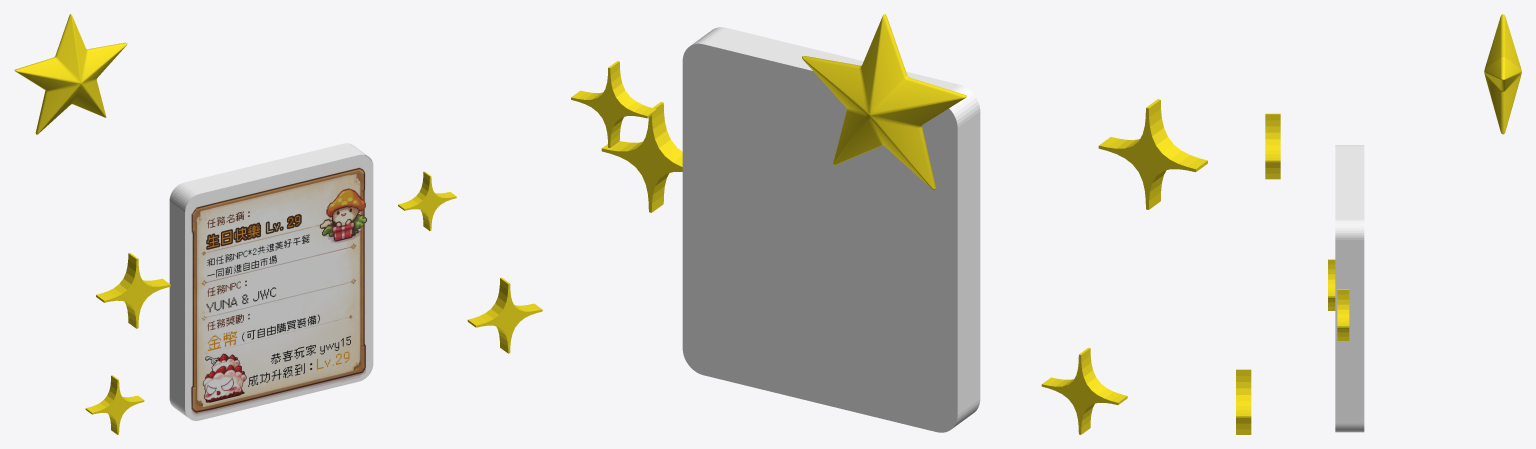
The picture shows the model from 3 angles, left to right: view 1: azimuth 30°, elevation 25°; view 2: azimuth 150°, elevation 25°; view 3: azimuth 270°, elevation 25°; orthographic projection. The views are drawn at different scales.
Visible parts, largest first — view 1: 紅包袋-楓幣-png-02, Gold_star, Cube.002, Cube, Cube.001, Cube.003; view 2: 紅包袋-楓幣-png-02, Gold_star, Cube, Cube.002, Cube.003, Cube.001; view 3: 紅包袋-楓幣-png-02, Gold_star, Cube, Cube.002, Cube.001, Cube.003.
Boxes of the visible parts, bbox=[...] form: 紅包袋-楓幣-png-02: bbox=[169, 143, 373, 420]; Gold_star: bbox=[14, 14, 127, 134]; Cube.002: bbox=[467, 277, 542, 353]; Cube: bbox=[96, 253, 170, 328]; Cube.001: bbox=[398, 171, 456, 230]; Cube.003: bbox=[85, 375, 144, 434]; 紅包袋-楓幣-png-02: bbox=[682, 27, 980, 432]; Gold_star: bbox=[802, 14, 966, 189]; Cube: bbox=[1098, 99, 1207, 209]; Cube.002: bbox=[601, 102, 682, 212]; Cube.003: bbox=[1041, 347, 1127, 434]; Cube.001: bbox=[571, 61, 656, 147]; 紅包袋-楓幣-png-02: bbox=[1335, 145, 1364, 432]; Gold_star: bbox=[1484, 14, 1521, 134]; Cube: bbox=[1265, 113, 1280, 179]; Cube.002: bbox=[1236, 369, 1251, 434]; Cube.001: bbox=[1337, 289, 1349, 340]; Cube.003: bbox=[1328, 259, 1335, 310].
Bounding box in the file's own units: 5.6 × 4.44 × 3.52.
Materials: 3 (1 with a texture image).
